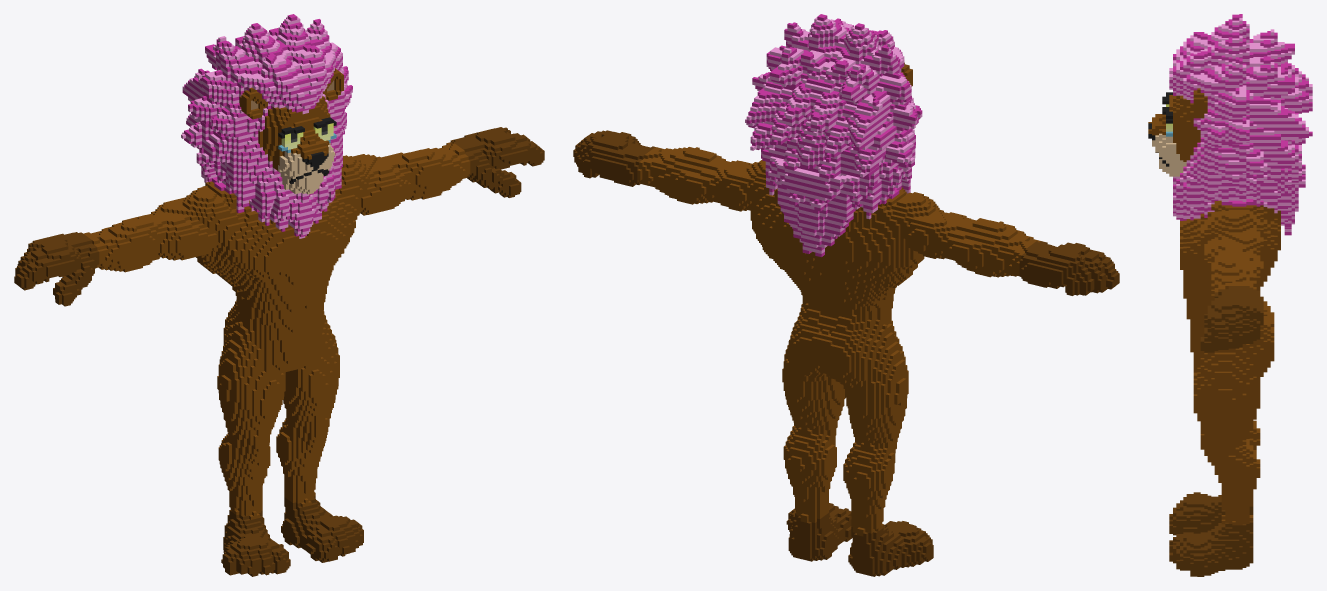
Rendered from 63-SeqJ6CLg.glb.
The picture shows the model from 3 angles, left to right: view 1: azimuth 30°, elevation 25°; view 2: azimuth 150°, elevation 25°; view 3: azimuth 270°, elevation 25°; orthographic projection. The views are drawn at different scales.
Visible parts, largest first — view 1: sad.001; view 2: sad.001; view 3: sad.001.
Part boxes in pixels (x1=…): sad.001: x1=14, y1=14, x2=544, y2=576; sad.001: x1=573, y1=14, x2=1119, y2=576; sad.001: x1=1148, y1=14, x2=1312, y2=576.
Bounding box in the file's own units: 17.2 × 16.5 × 4.7.
Materials: 4 (4 with a texture image).
